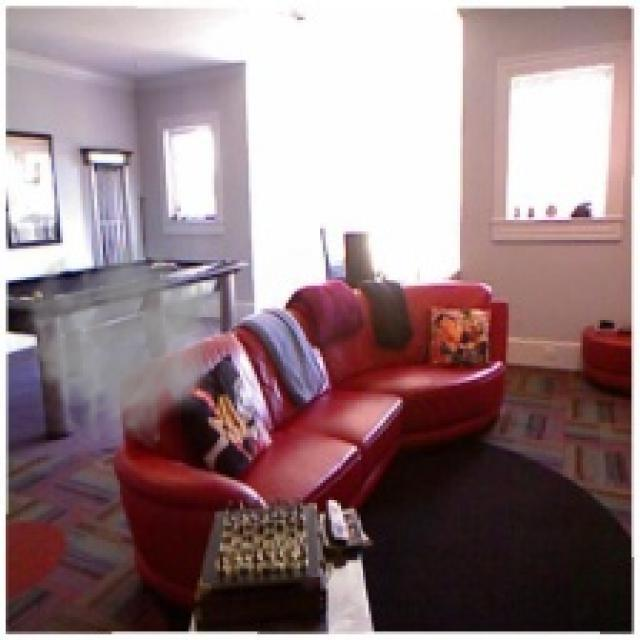Smoke: (11, 237, 223, 452)
